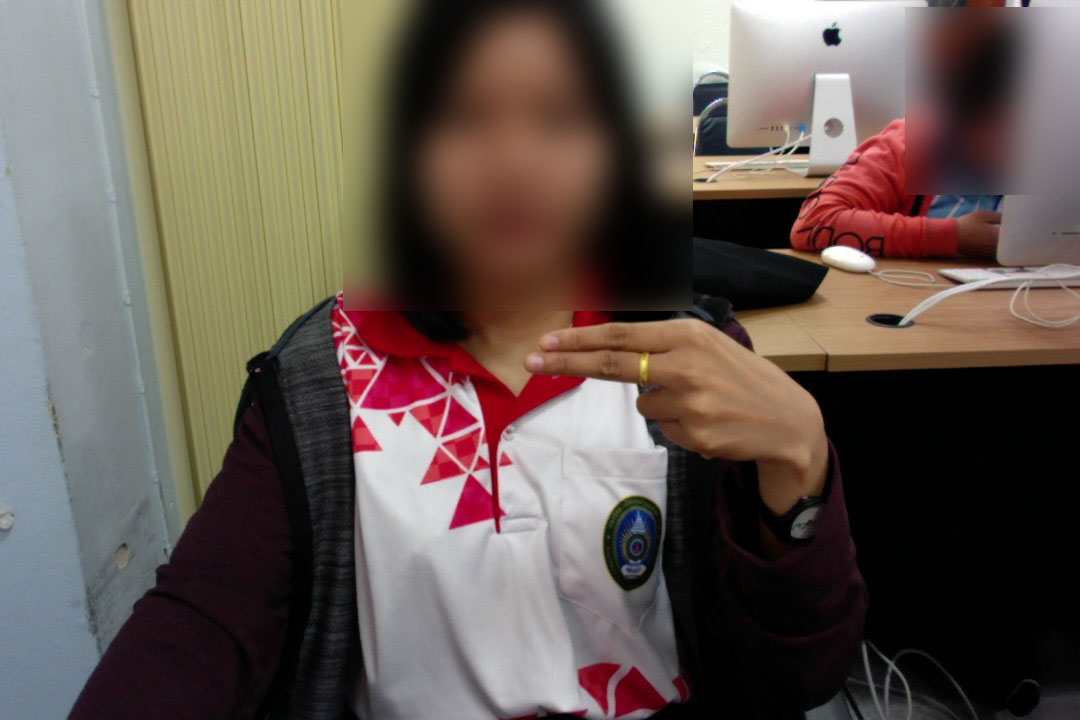hor: (514, 307, 834, 475)
